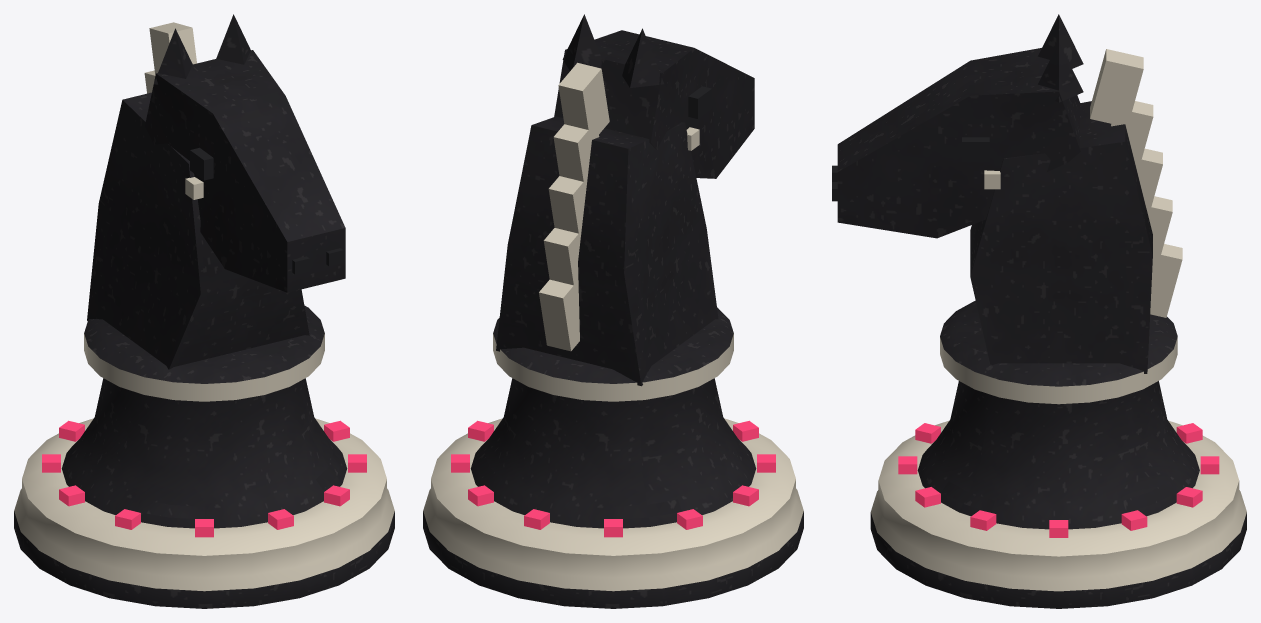
File: knight_dark.glb
The picture shows the model from 3 angles, left to right: view 1: azimuth 30°, elevation 25°; view 2: azimuth 150°, elevation 25°; view 3: azimuth 270°, elevation 25°; orthographic projection.
Parts seen in each view (by area): view 1: Piece_Knight_Dark_Mesh; view 2: Piece_Knight_Dark_Mesh; view 3: Piece_Knight_Dark_Mesh.
Part boxes in pixels (box(x1,y1,x2,y2)): Piece_Knight_Dark_Mesh: box(14, 14, 394, 608); Piece_Knight_Dark_Mesh: box(423, 14, 803, 608); Piece_Knight_Dark_Mesh: box(832, 14, 1246, 608).
Bounding box in the file's own units: 0.68 × 1 × 0.75.
4 materials, 1 textured.
